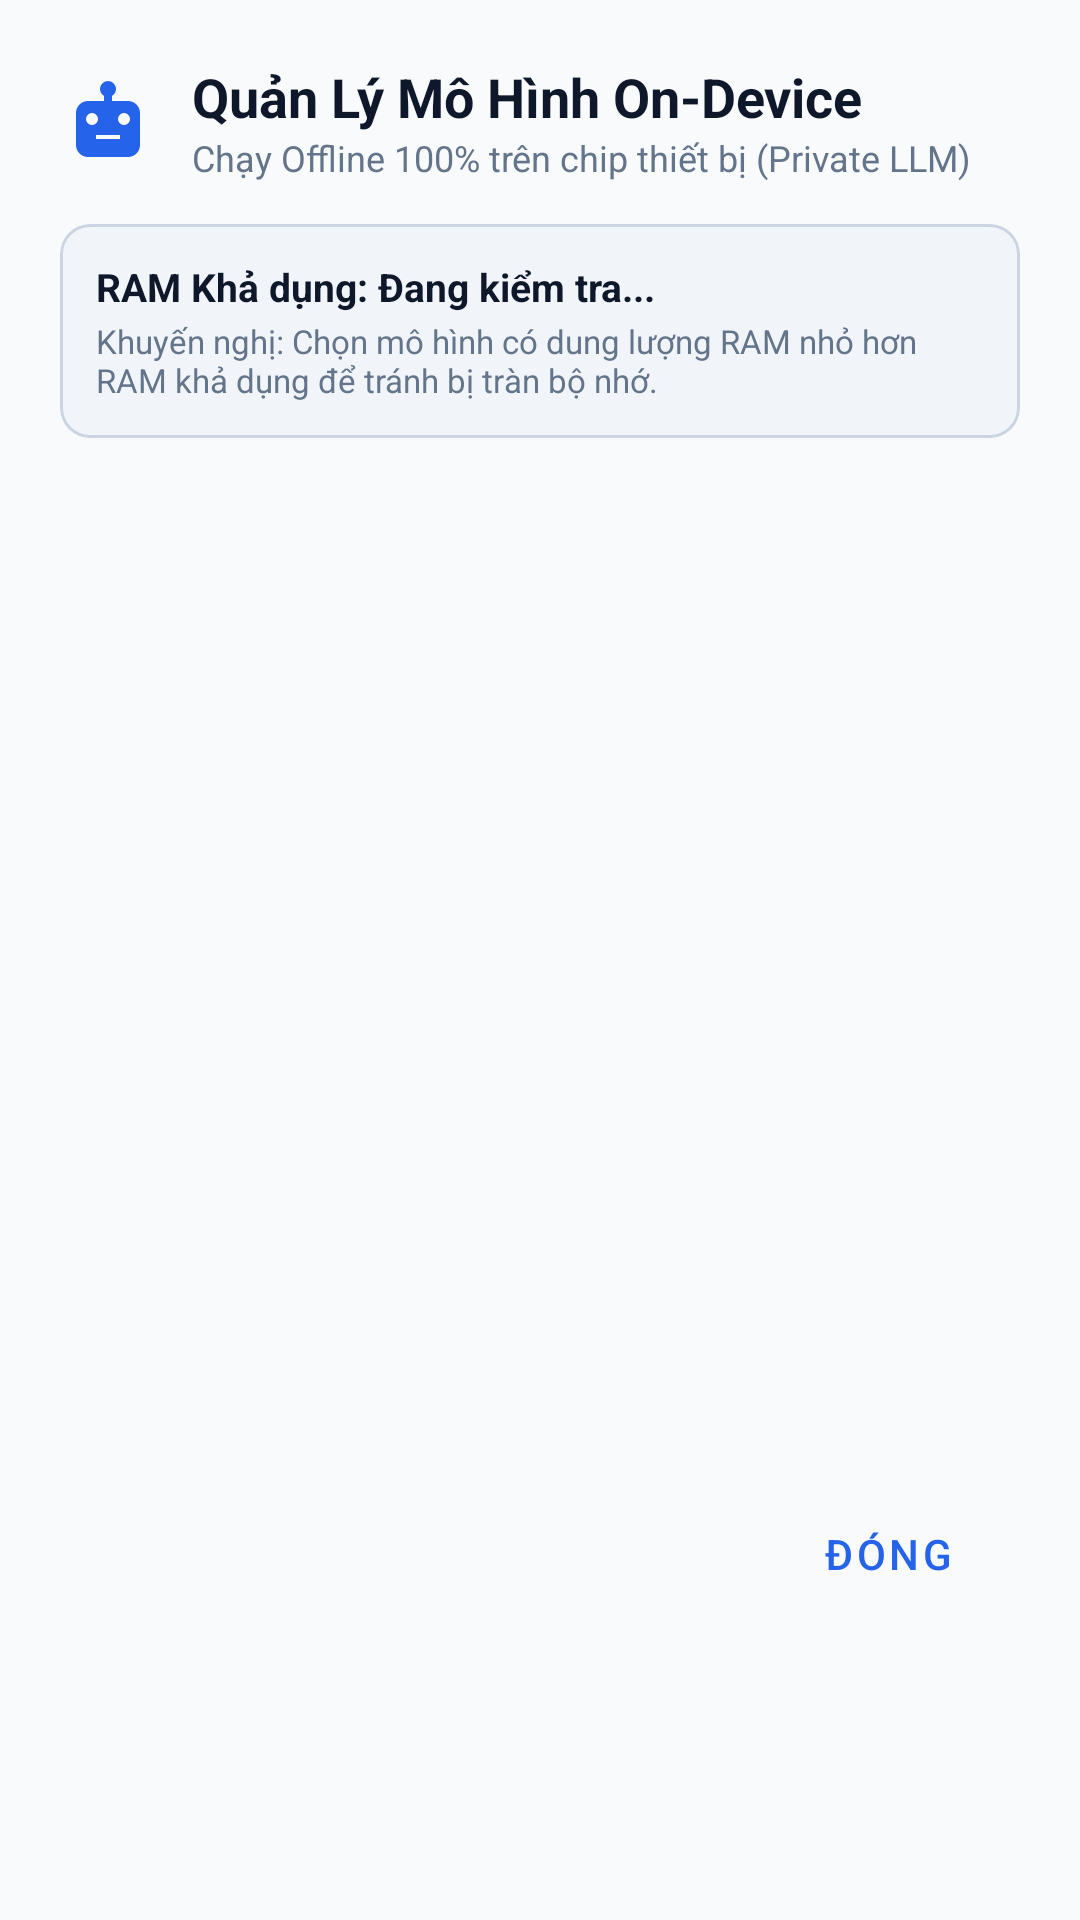

Locate icon controls on the screen. Image size 1080 x 1920, boxes as Rect(x1, y1, x2, y2).
bot: Rect(76, 81, 140, 157)
